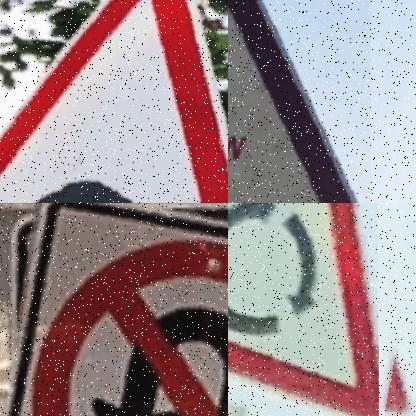No U-Turn: (5, 203, 228, 416)
Roundabout Ahead: (228, 203, 377, 416)
Slow: (228, 0, 350, 203)
Speed Breaker Ahead: (0, 0, 228, 203)
